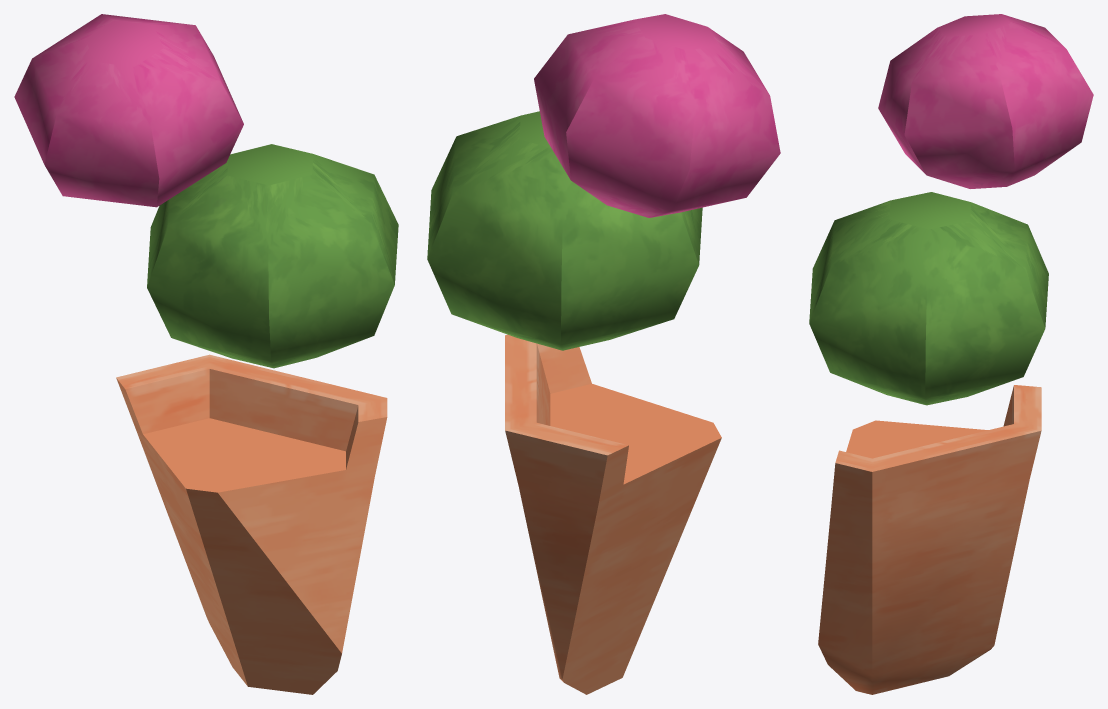
The model's file is potted_plant_s01.fbx.
3 renders of one model, left to right at view 1: azimuth 30°, elevation 25°; view 2: azimuth 150°, elevation 25°; view 3: azimuth 270°, elevation 25°, orthographic. The views are drawn at different scales.
Parts seen in each view (by area): view 1: potted_plant_s01; view 2: potted_plant_s01; view 3: potted_plant_s01.
Part boxes in pixels (x1=…): potted_plant_s01: x1=14, y1=14, x2=398, y2=694; potted_plant_s01: x1=427, y1=14, x2=780, y2=694; potted_plant_s01: x1=809, y1=14, x2=1093, y2=694.
Bounding box in the file's own units: 1.63 × 2.98 × 1.25.
